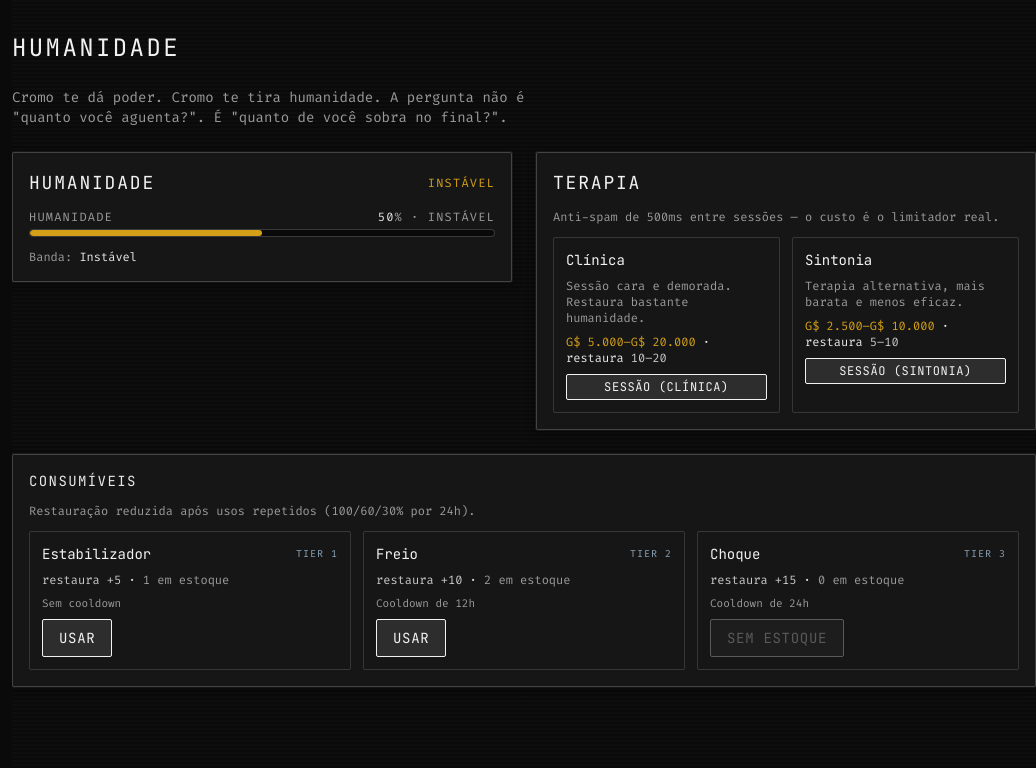
Test: HumanityView › should use a consumable through the 2-step confirmation
Click the button "Usar" below "Sem cooldown": (77, 638) [42, 619, 112, 657]
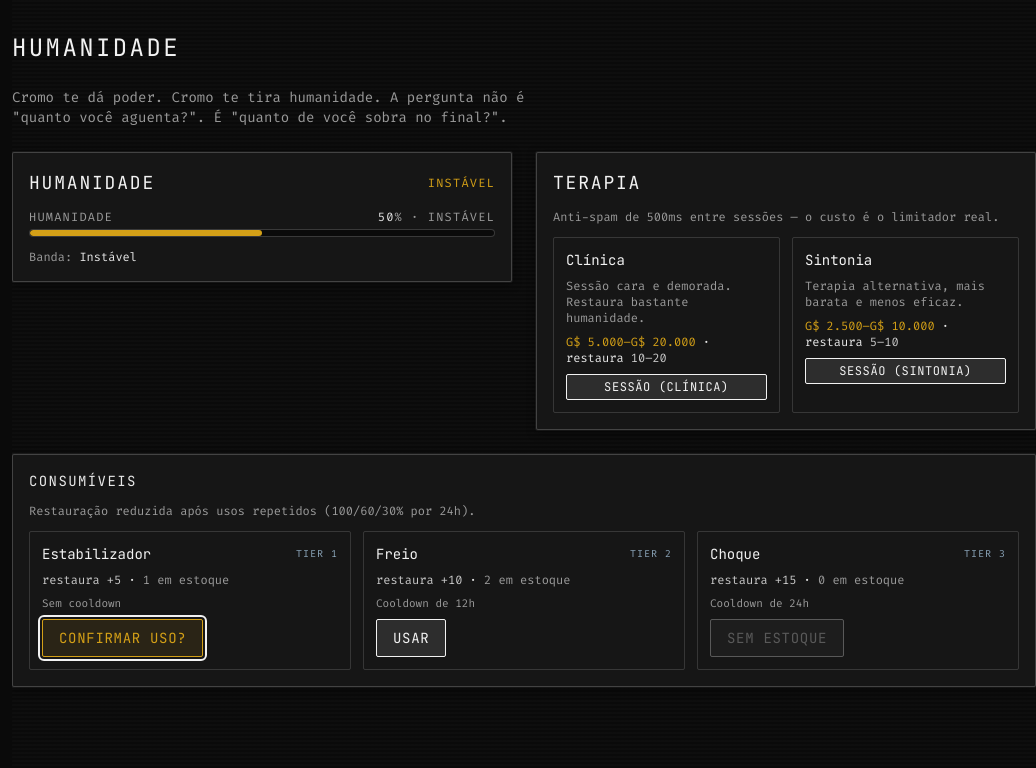
Click the button "Confirmar uso?": (123, 638) [42, 619, 203, 657]
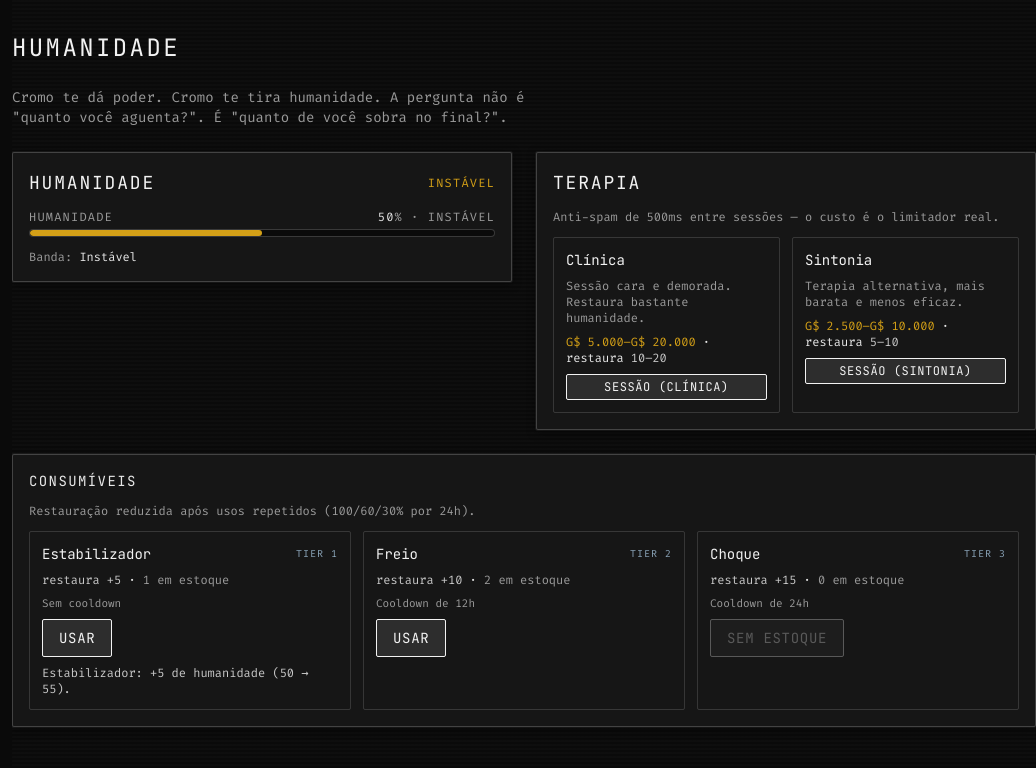
Check: the text "Estabilizador: +5 de humanidade (50 → 55)." is shown, box [42, 665, 338, 697]
